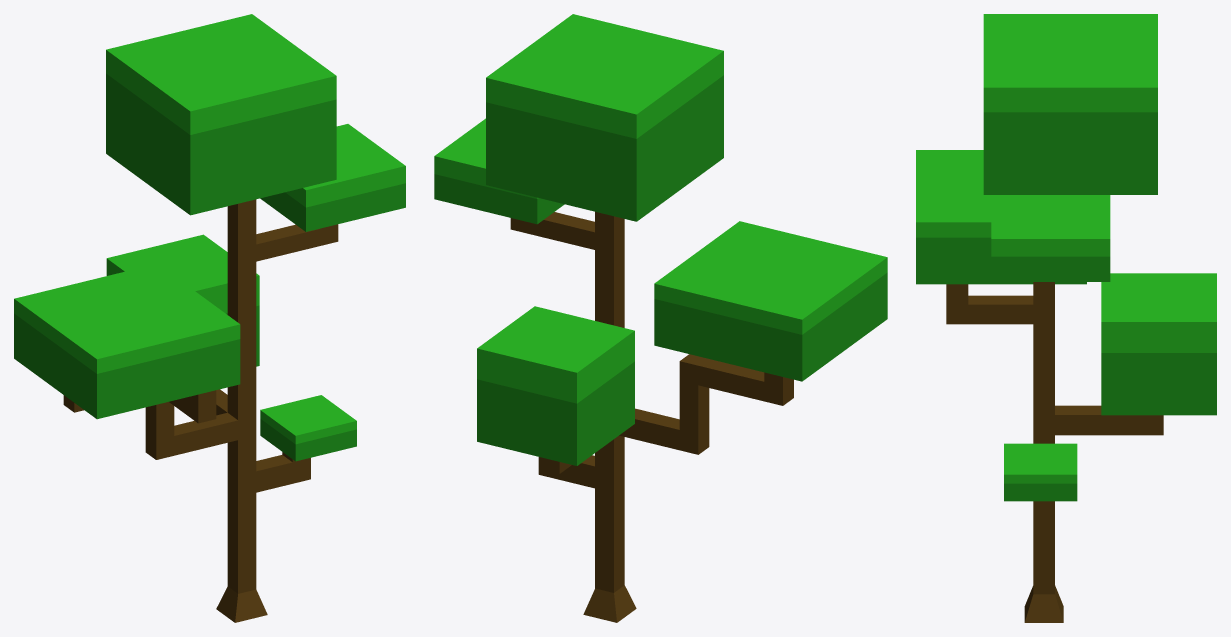
The model's file is forest7.fbx.
3 renders of one model, left to right at view 1: azimuth 30°, elevation 25°; view 2: azimuth 150°, elevation 25°; view 3: azimuth 270°, elevation 25°, orthographic. The views are drawn at different scales.
Parts seen in each view (by area): view 1: forest7; view 2: forest7; view 3: forest7.
Part boxes in pixels (left/top/right/bottom): forest7: left=14, top=14, right=405, bottom=622; forest7: left=434, top=14, right=887, bottom=622; forest7: left=916, top=14, right=1216, bottom=622.
Size of the model in its own units: 1693 by 2539 by 1237.
1 material, 1 textured.
